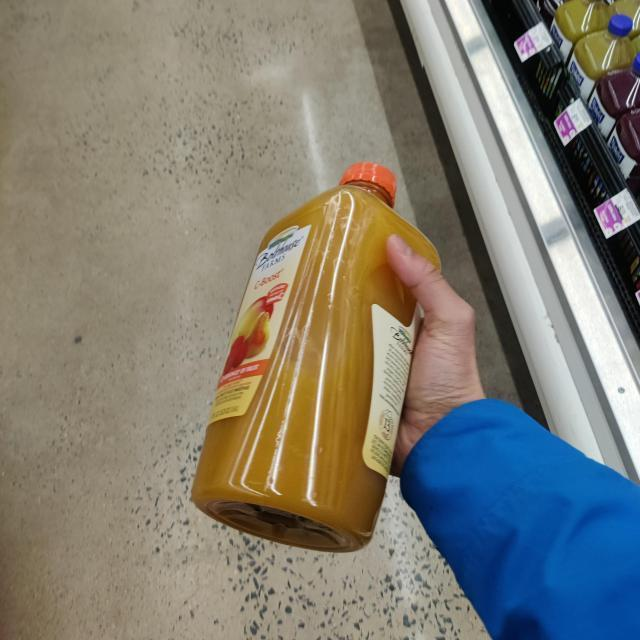Juice: (197, 162, 436, 552)
